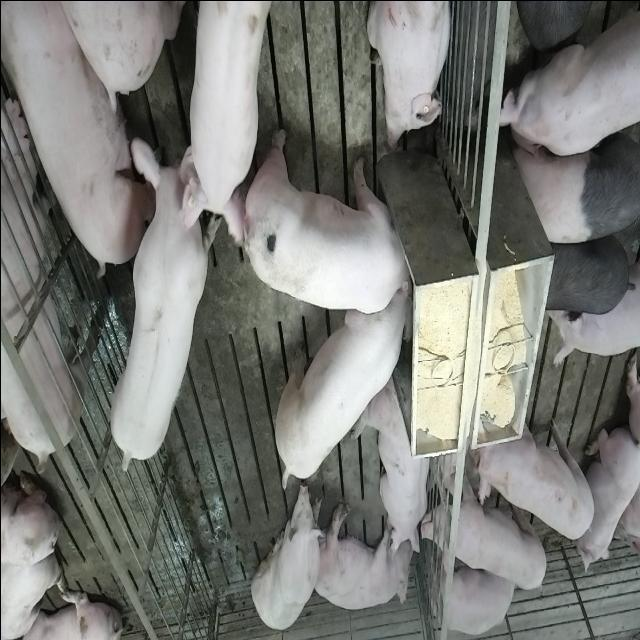Feeding: (247, 126, 420, 314), (270, 284, 410, 497)
Lateral_lying: (3, 0, 164, 275), (311, 500, 414, 610)
Sitting: (250, 480, 324, 634)
Standing: (0, 76, 99, 467), (107, 138, 221, 472), (172, 0, 272, 239), (498, 0, 638, 160), (510, 118, 638, 246), (473, 412, 597, 540), (421, 479, 548, 594), (532, 228, 636, 318)
Sternal_lying: (356, 372, 432, 554), (366, 0, 453, 151), (576, 418, 638, 572), (433, 554, 516, 634)
